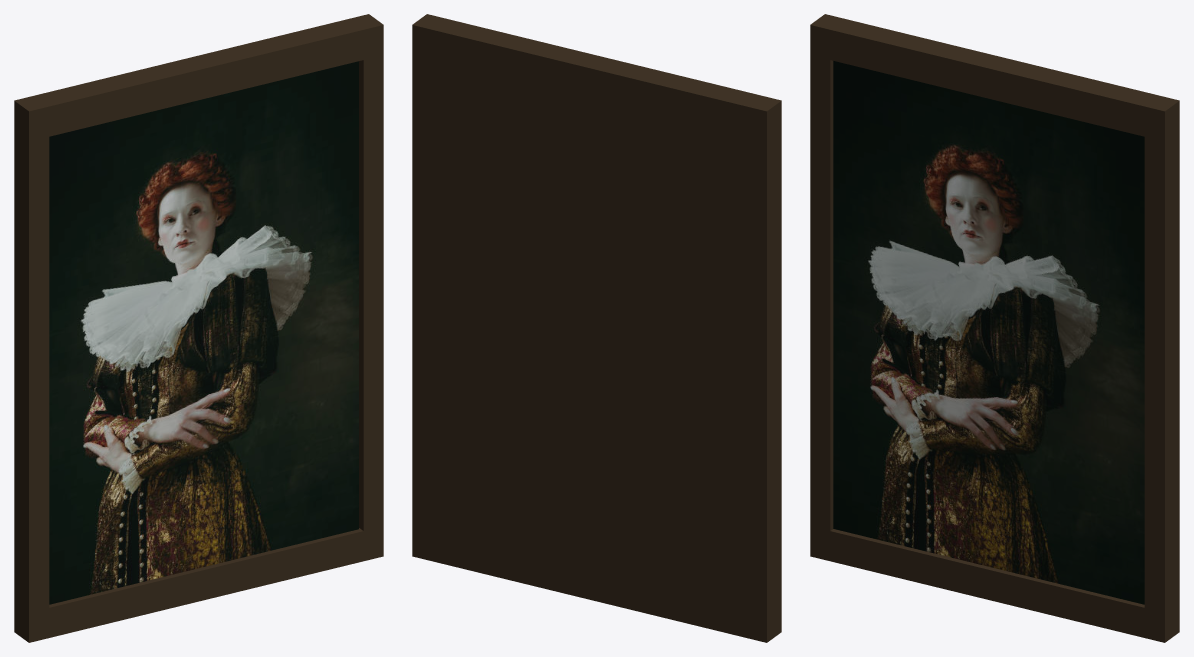
Rendered from Ayin odası tablo norma hali.fbx.
3 views of the same model, side by side, from view 1: azimuth 30°, elevation 25°; view 2: azimuth 150°, elevation 25°; view 3: azimuth 330°, elevation 25° (orthographic).
Visible parts, largest first — view 1: Plane, Cube; view 2: Cube; view 3: Plane, Cube.
Part boxes in pixels (x1=…): Plane: x1=49, y1=61, x2=358, y2=604; Cube: x1=14, y1=14, x2=383, y2=642; Cube: x1=412, y1=14, x2=781, y2=642; Plane: x1=833, y1=61, x2=1144, y2=604; Cube: x1=810, y1=14, x2=1179, y2=642.
Bounding box in the file's own units: 135 × 193 × 9.79.
Materials: 2 (1 with a texture image).
